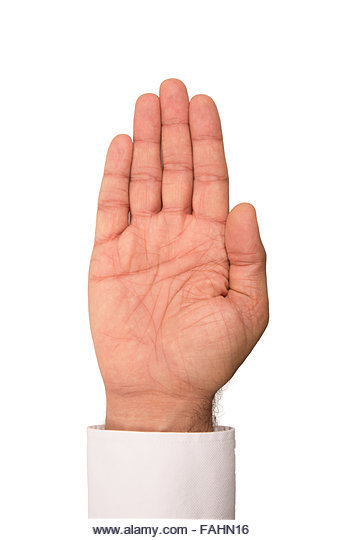non-diseased: (106, 73, 267, 403)
